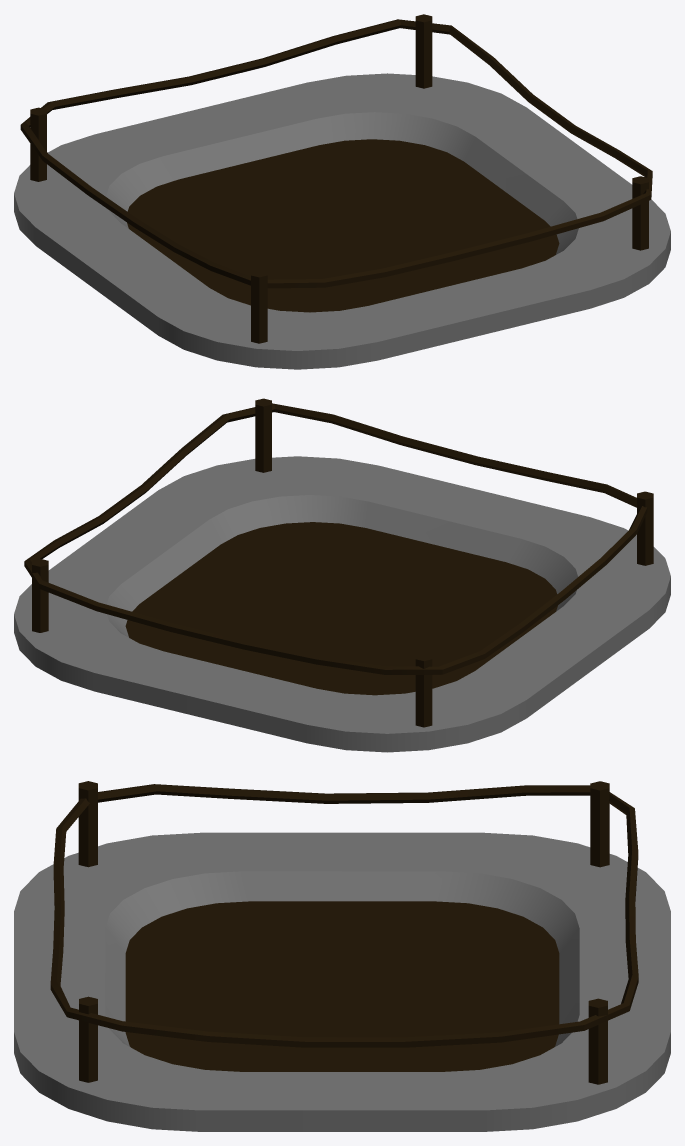
File: bridge_single_mesh.fbx
3 views of the same model, one above another, from view 1: azimuth 30°, elevation 25°; view 2: azimuth 150°, elevation 25°; view 3: azimuth 270°, elevation 25° (orthographic). The views are drawn at different scales.
Visible parts, largest first — view 1: bridge_single_mesh; view 2: bridge_single_mesh; view 3: bridge_single_mesh.
Boxes of the visible parts, box(x1,y1,x2,y2) form: bridge_single_mesh: box(14, 14, 670, 369); bridge_single_mesh: box(14, 398, 670, 752); bridge_single_mesh: box(14, 781, 670, 1131).
Size of the model in its own units: 1 by 0.1651 by 1.
